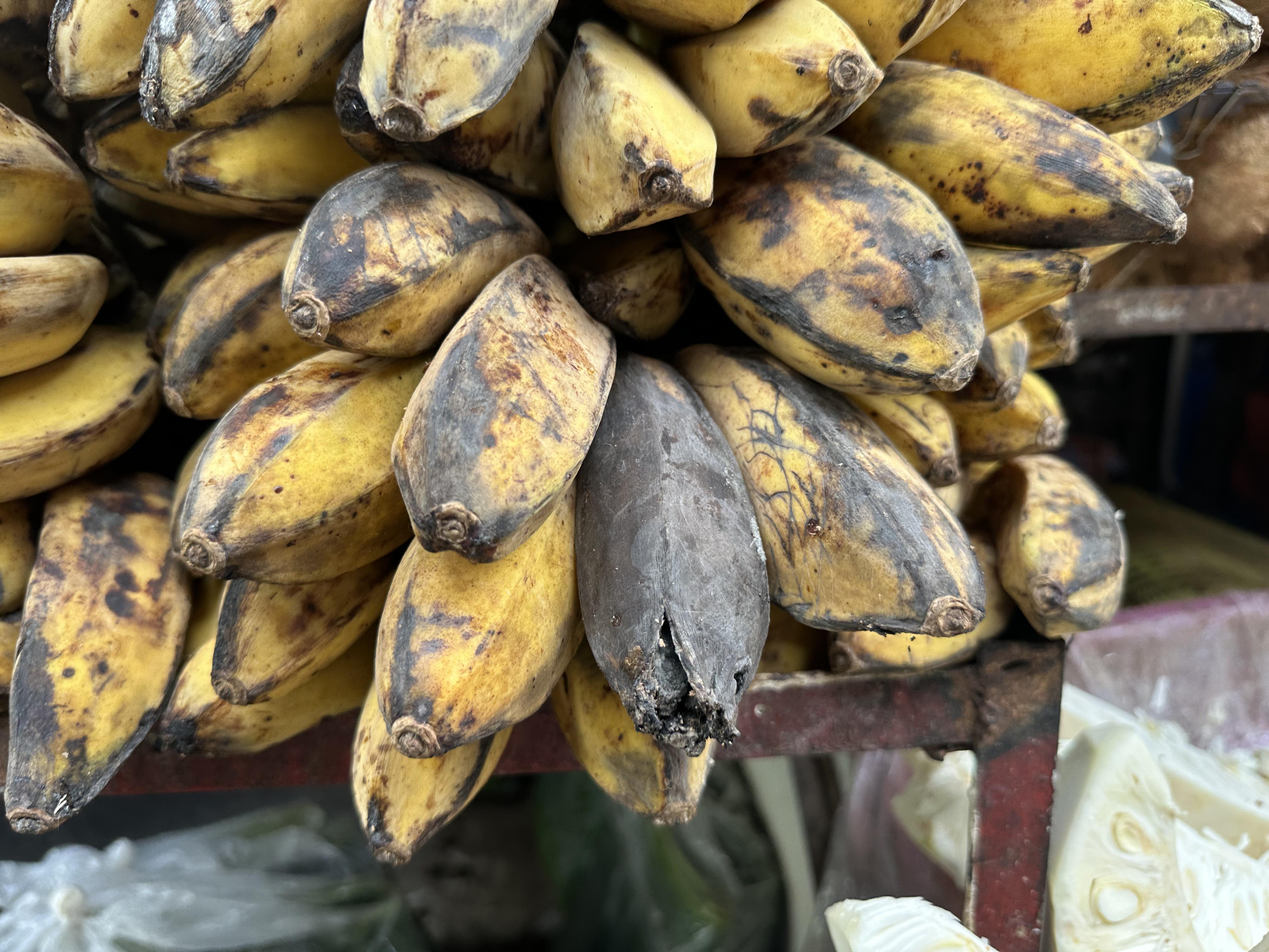ripe: (165, 164, 984, 863), (678, 0, 1262, 488), (48, 0, 963, 235), (0, 104, 159, 502)
